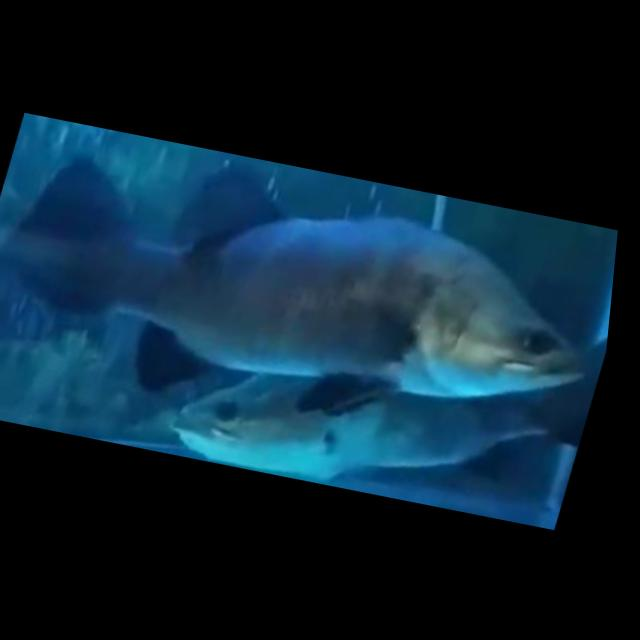Seabass: (0, 124, 628, 468), (154, 244, 617, 528)
